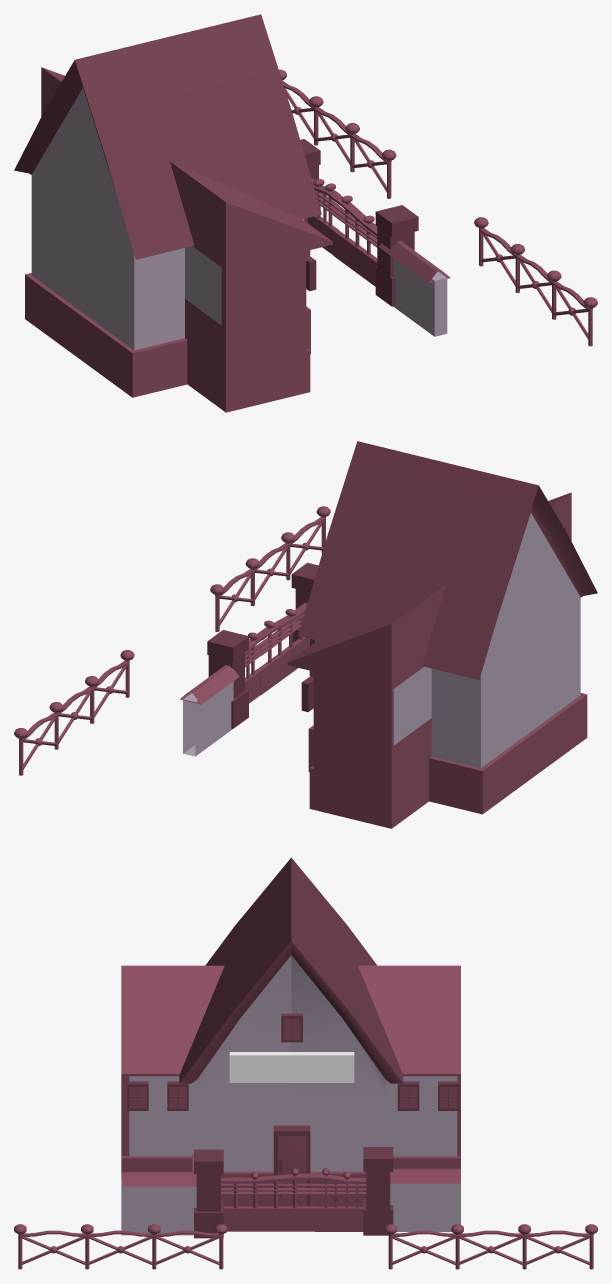
File: school02.fbx
3 renders of one model, top to bottom at view 1: azimuth 30°, elevation 25°; view 2: azimuth 150°, elevation 25°; view 3: azimuth 270°, elevation 25°, orthographic. The views are drawn at different scales.
Visible parts, largest first — view 1: polySurface218, polySurface214, polySurface215, polySurface255, polySurface254, polySurface249, polySurface253, polySurface247, polySurface250, polySurface216; view 2: polySurface218, polySurface217, polySurface216, polySurface255, polySurface253, polySurface254, polySurface251, polySurface248, polySurface252, polySurface247, polySurface215; view 3: polySurface218, polySurface215, polySurface216, polySurface255, polySurface214, polySurface217, polySurface219, polySurface249, polySurface253, polySurface254, polySurface251, polySurface248 (+9 smaller).
Part boxes in pixels (<box>): polySurface218: <box>14,14,321,397</box>; polySurface214: <box>185,235,310,412</box>; polySurface215: <box>170,161,332,270</box>; polySurface255: <box>308,178,377,286</box>; polySurface254: <box>474,217,597,346</box>; polySurface249: <box>393,258,447,336</box>; polySurface253: <box>279,69,396,198</box>; polySurface247: <box>375,205,418,306</box>; polySurface250: <box>379,241,450,283</box>; polySurface216: <box>41,67,64,116</box>; polySurface218: <box>298,441,597,814</box>; polySurface217: <box>309,656,431,828</box>; polySurface216: <box>287,584,445,690</box>; polySurface255: <box>245,603,309,703</box>; polySurface253: <box>14,650,134,775</box>; polySurface254: <box>210,506,330,632</box>; polySurface251: <box>183,681,233,756</box>; polySurface248: <box>207,630,248,728</box>; polySurface252: <box>179,665,239,704</box>; polySurface247: <box>291,562,318,645</box>; polySurface215: <box>548,492,571,540</box>; polySurface218: <box>179,857,403,1206</box>; polySurface215: <box>121,965,224,1076</box>; polySurface216: <box>358,965,460,1076</box>; polySurface255: <box>221,1168,366,1231</box>; polySurface214: <box>121,1076,196,1177</box>; polySurface217: <box>385,1076,460,1168</box>; polySurface219: <box>229,1052,354,1082</box>; polySurface249: <box>121,1178,196,1235</box>; polySurface253: <box>384,1224,597,1269</box>; polySurface254: <box>14,1224,227,1269</box>; polySurface251: <box>390,1183,460,1231</box>; polySurface248: <box>363,1147,393,1235</box>.
Size of the model in its own units: 23.75 by 18.42 by 34.89.
